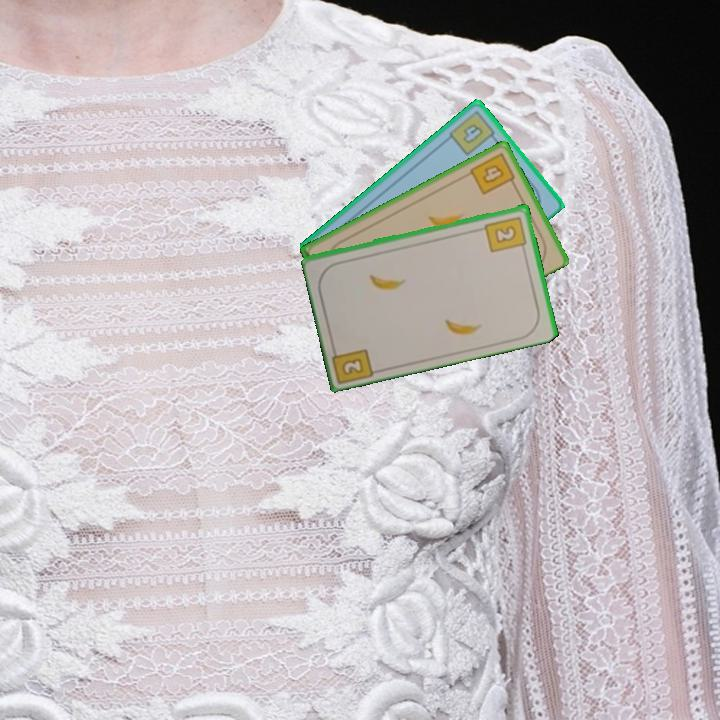2b: (328, 340, 378, 385), (482, 212, 529, 255)
4b: (445, 107, 501, 158), (466, 149, 519, 197)
